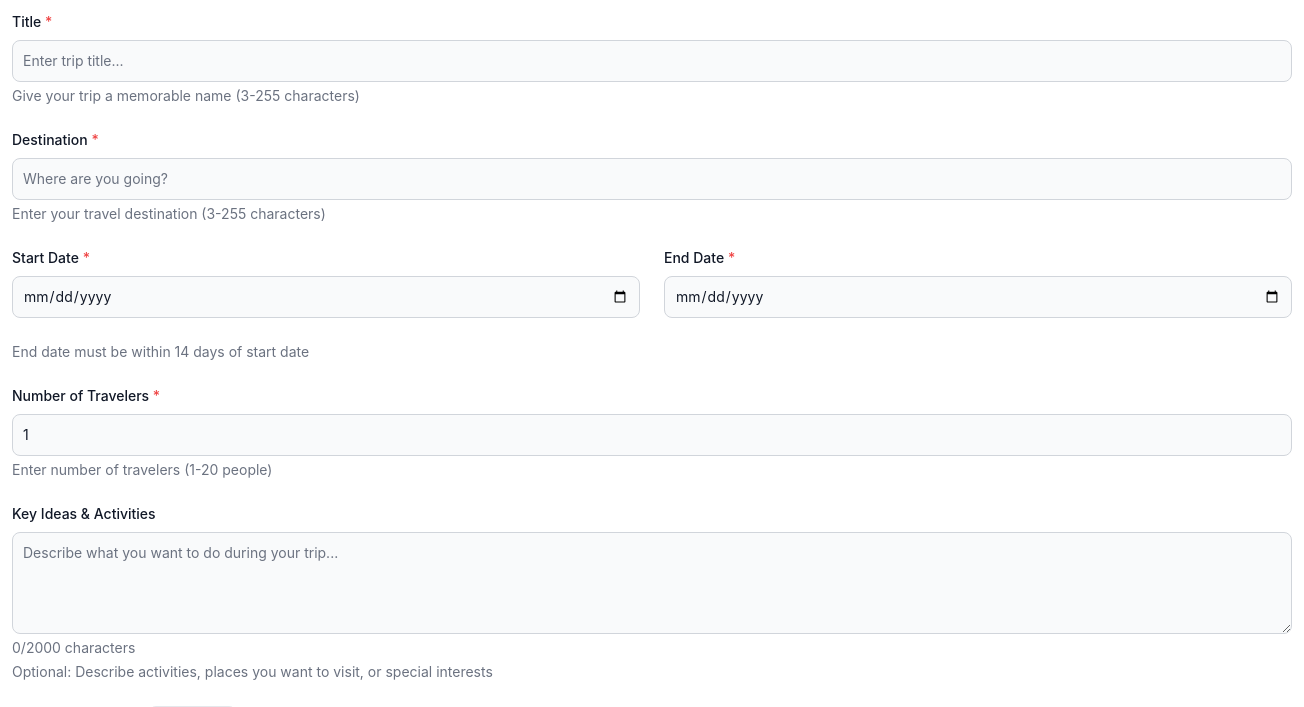
Test: NoteForm - Core Functionality › Basic Field Validation › should show error for number of people less than 1
Replace the text in the number field labelled "Number of Travelers *" with "0": (652, 435) [12,414,1292,456]
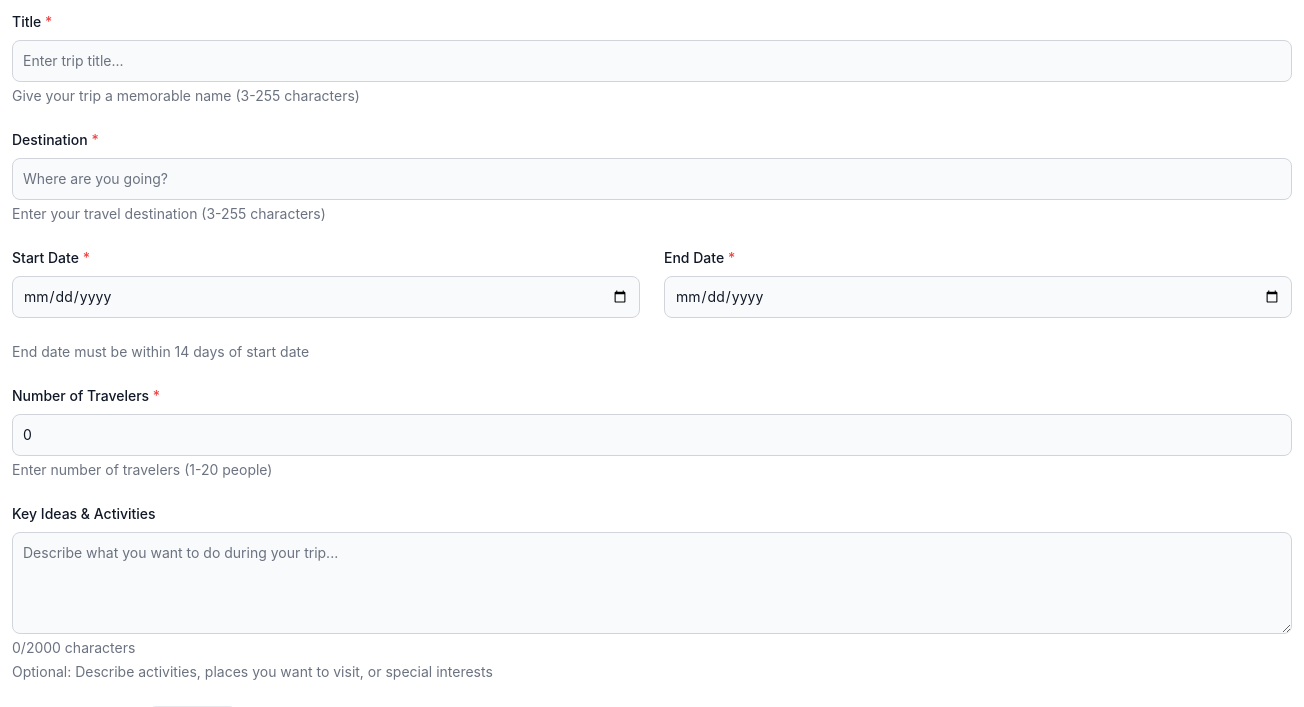
Leave the number field labelled "Number of Travelers *", box [12,414,1292,456]
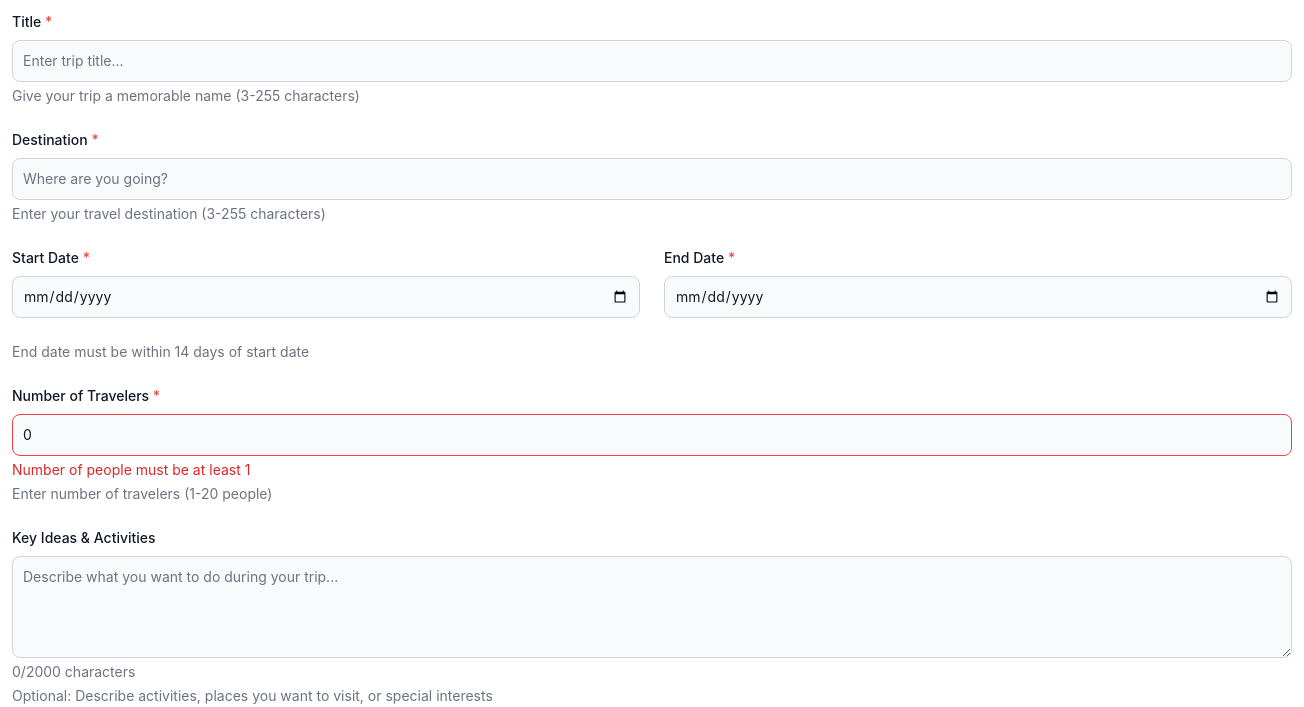
Result: the text "Number of people must be at least 1" is shown at [12,461,250,478]
